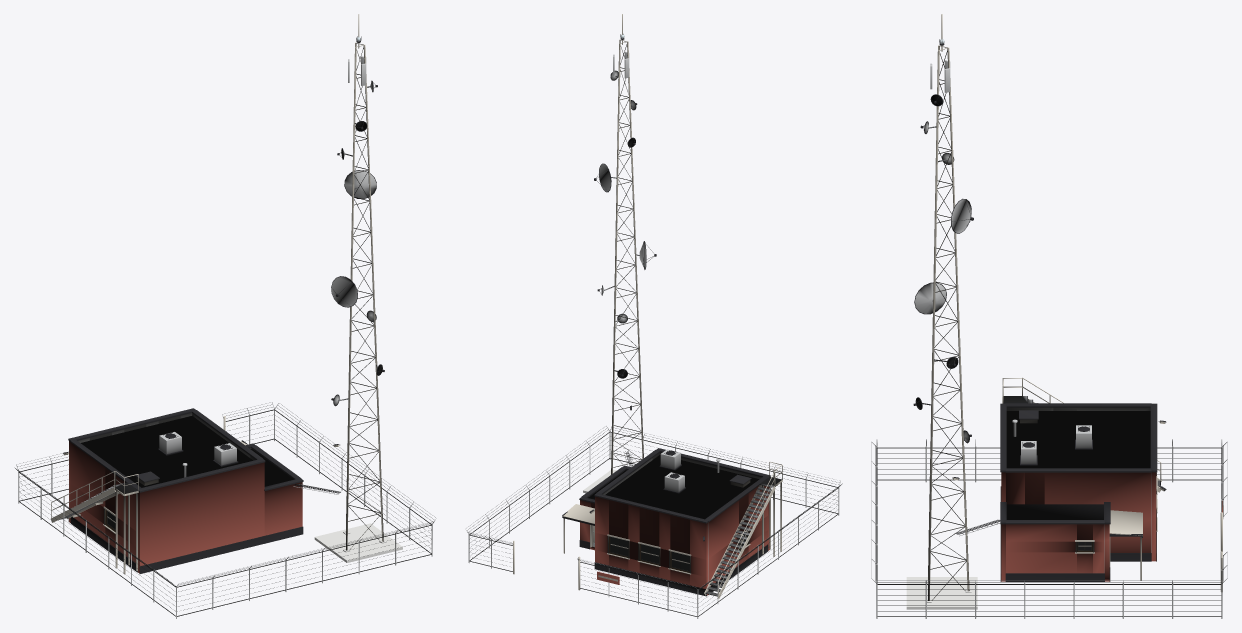
Rendered from radiostation.glb.
3 renders of one model, left to right at view 1: azimuth 30°, elevation 25°; view 2: azimuth 150°, elevation 25°; view 3: azimuth 270°, elevation 25°, orthographic. The views are drawn at different scales.
Visible parts, largest first — view 1: PART; view 2: PART; view 3: PART.
Part boxes in pixels (box(x1,y1,x2,y2)): PART: box(14, 14, 436, 618); PART: box(465, 14, 842, 618); PART: box(871, 14, 1227, 618).
Size of the model in its own units: 16.98 by 32.64 by 18.08.
